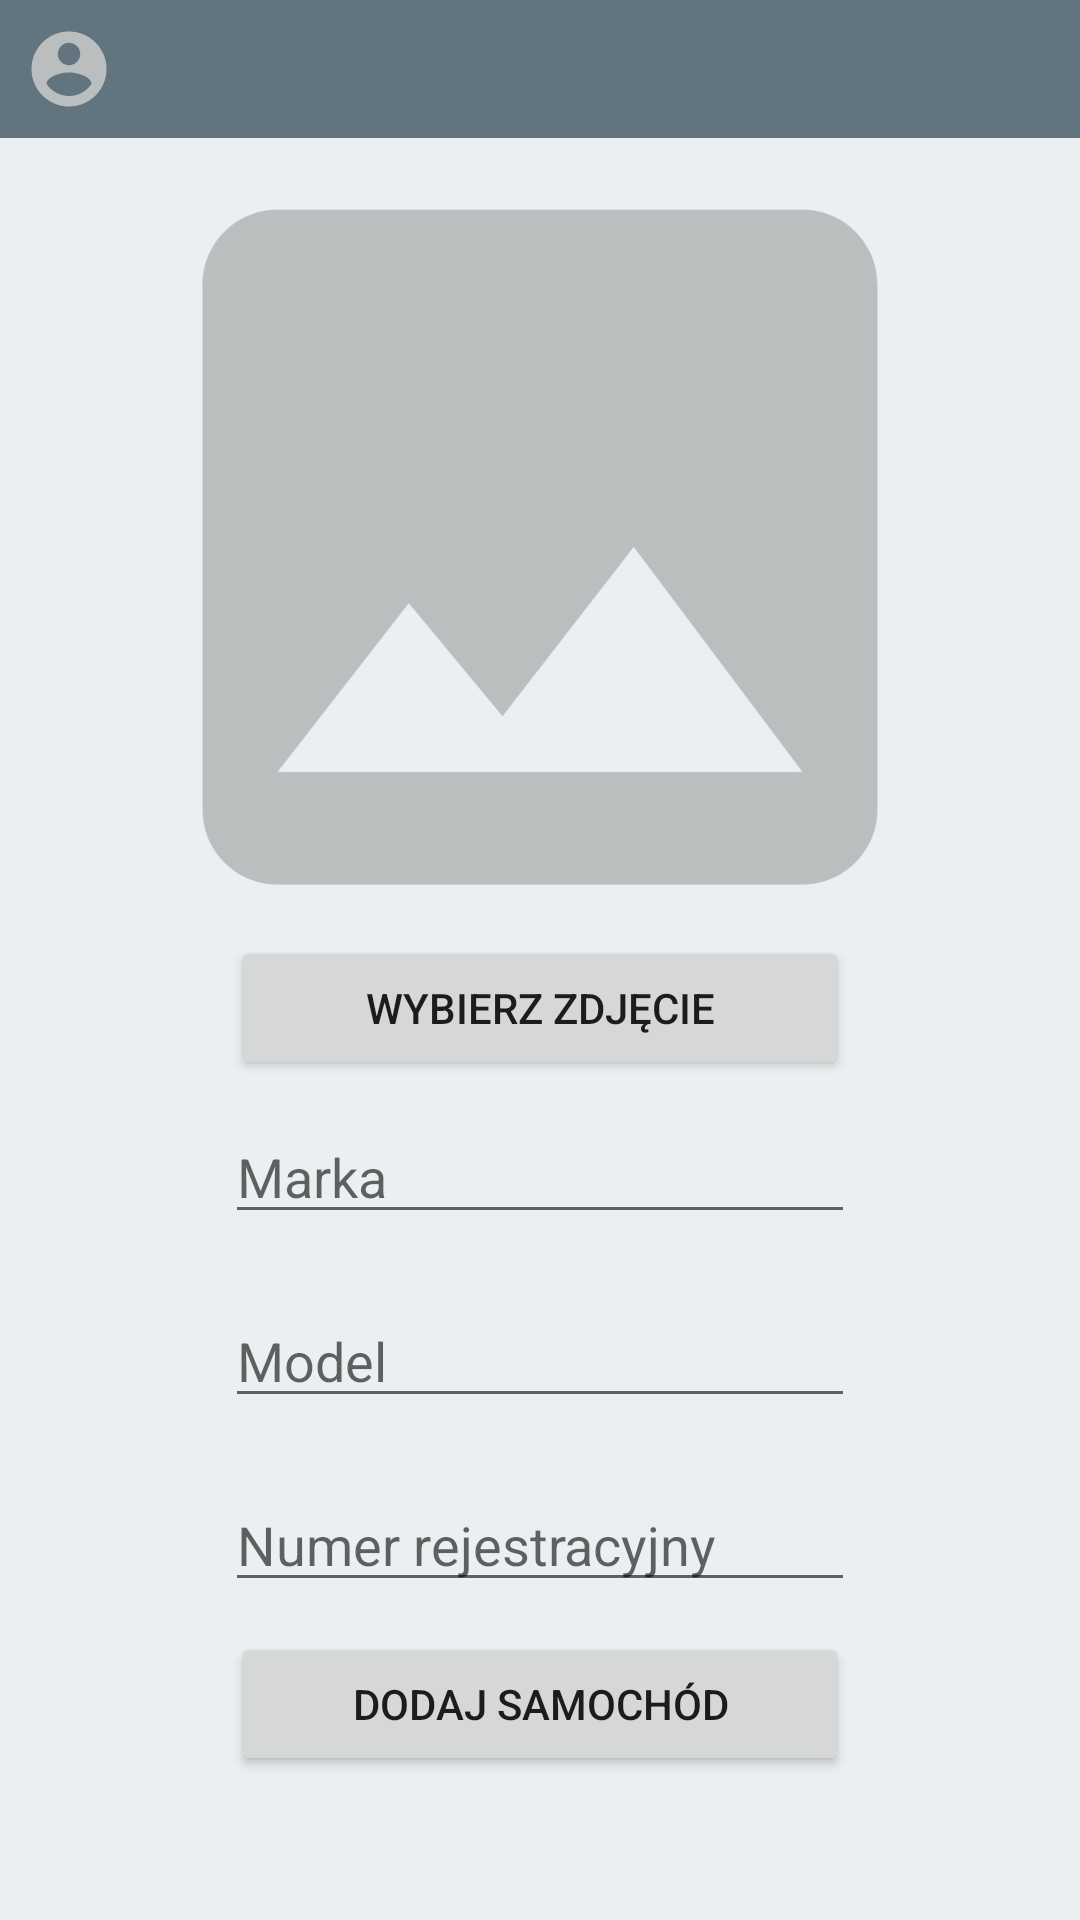

Where to tap for icons on this 1080*1920 app screen, as (x,y):
account circle: (69,69)
